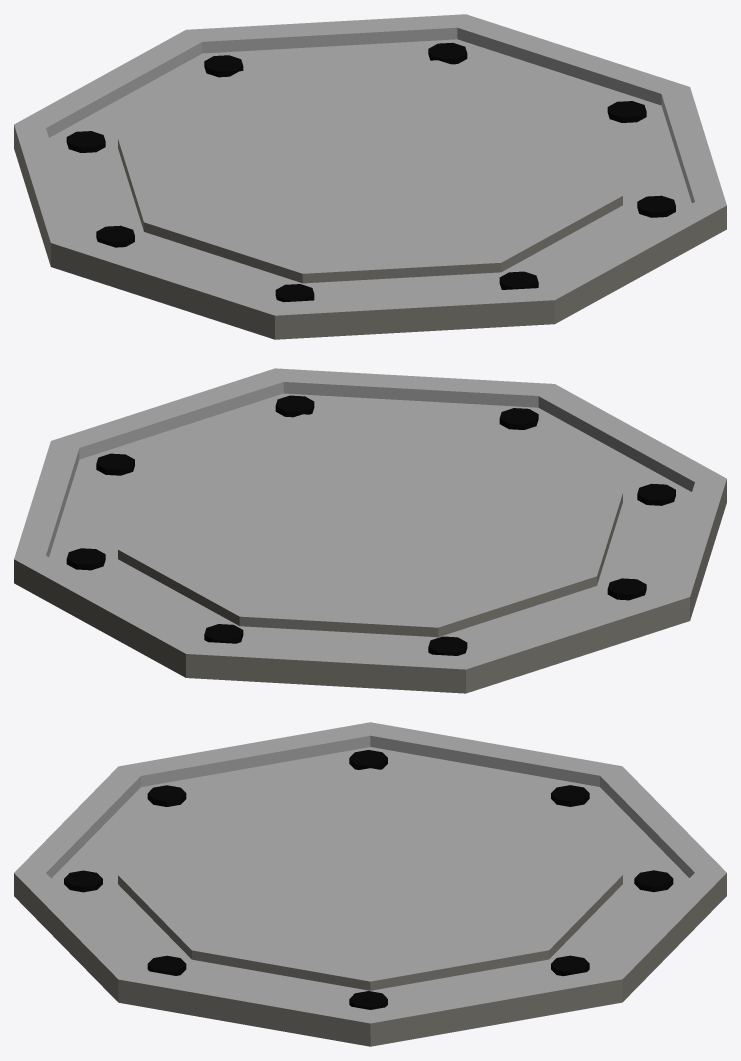
The model's file is accesorie_1.fbx.
The picture shows the model from 3 angles, top to bottom: view 1: azimuth 30°, elevation 25°; view 2: azimuth 150°, elevation 25°; view 3: azimuth 270°, elevation 25°; orthographic projection. The views are drawn at different scales.
Visible parts, largest first — view 1: drain_1; view 2: drain_1; view 3: drain_1.
Part boxes in pixels (<box>): drain_1: <box>14,14,726,339</box>; drain_1: <box>14,368,726,693</box>; drain_1: <box>14,722,726,1046</box>.
Bounding box in the file's own units: 80.6 × 2.93 × 80.6.
3 materials, 1 textured.
